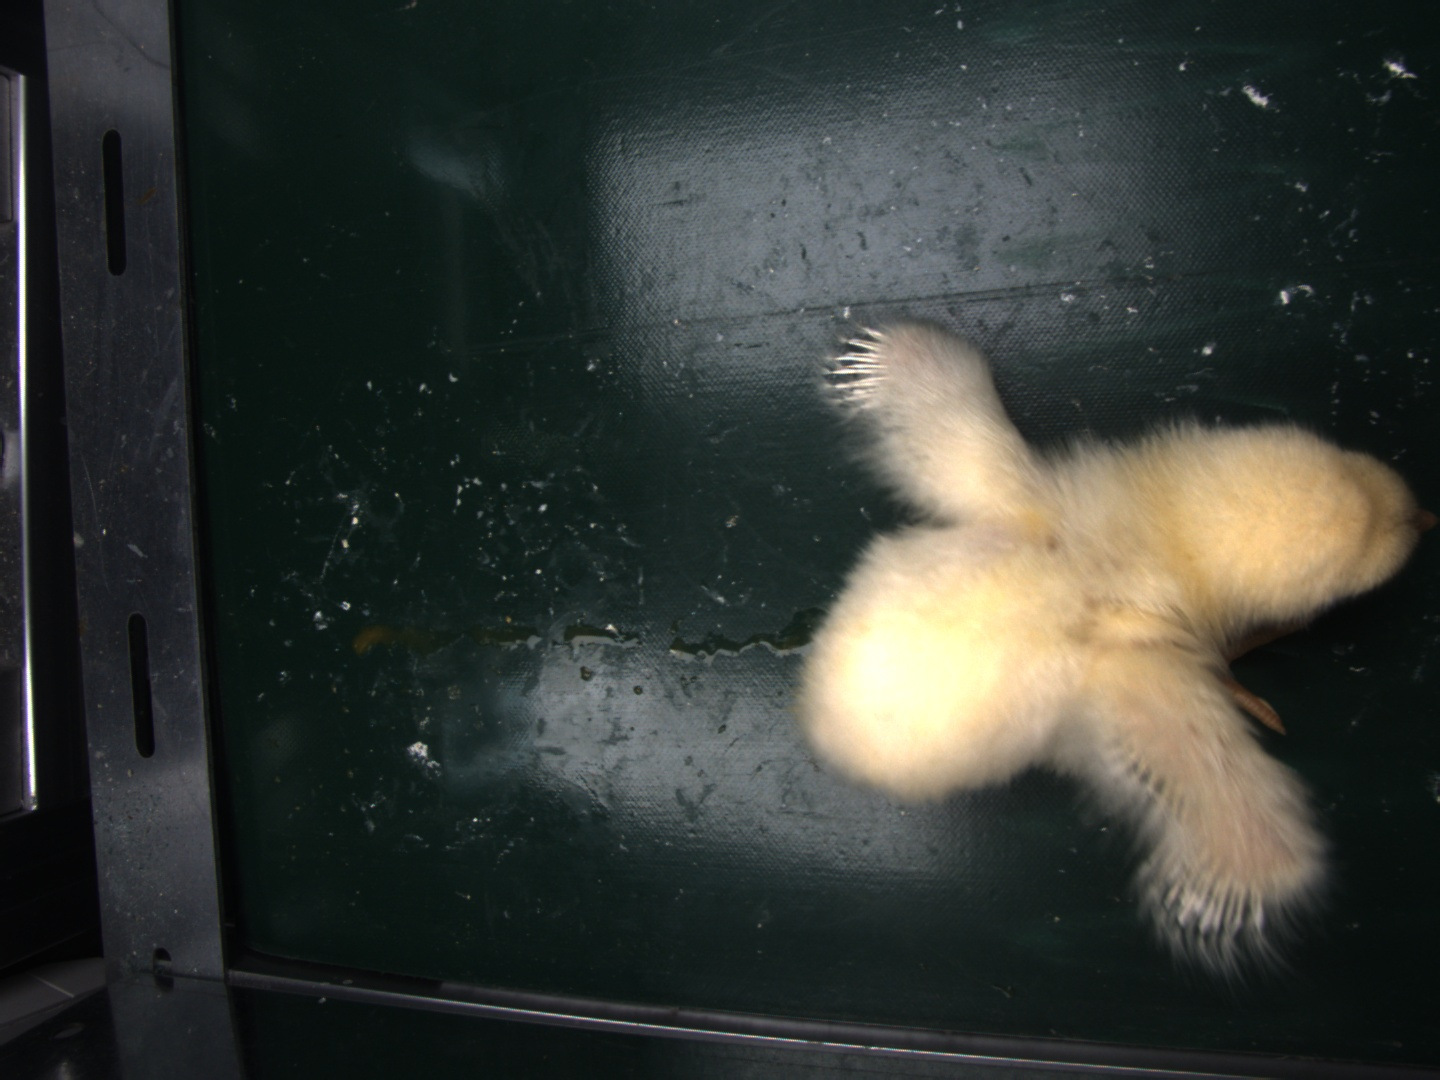male: (1157, 850, 1264, 931)
